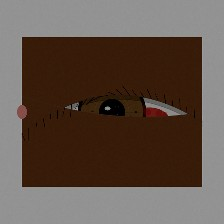hemorrhage_spot: (120, 99, 178, 146)
